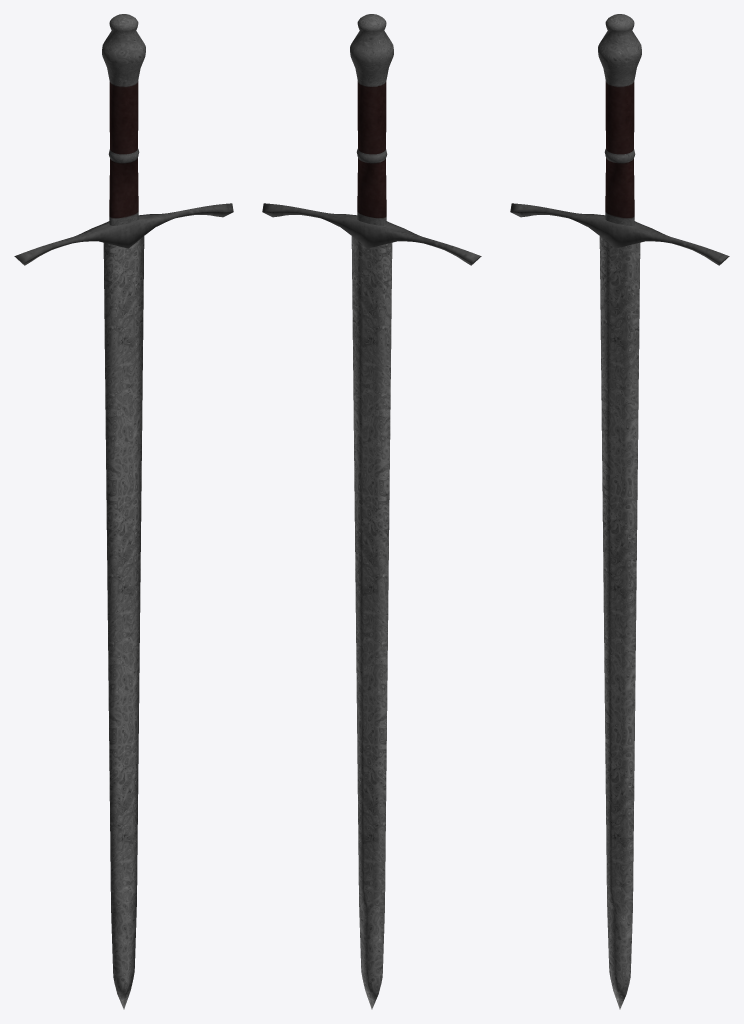
3 views of the same model, side by side, from view 1: azimuth 30°, elevation 25°; view 2: azimuth 150°, elevation 25°; view 3: azimuth 330°, elevation 25° (orthographic).
Parts seen in each view (by area): view 1: damascus_sword; view 2: damascus_sword; view 3: damascus_sword.
Boxes of the visible parts, <box> form: damascus_sword: <box>14,14,233,1009</box>; damascus_sword: <box>262,14,481,1009</box>; damascus_sword: <box>510,14,729,1009</box>.
Bounding box in the file's own units: 0.2917 × 1.28 × 0.0519.
1 material, 1 textured.
